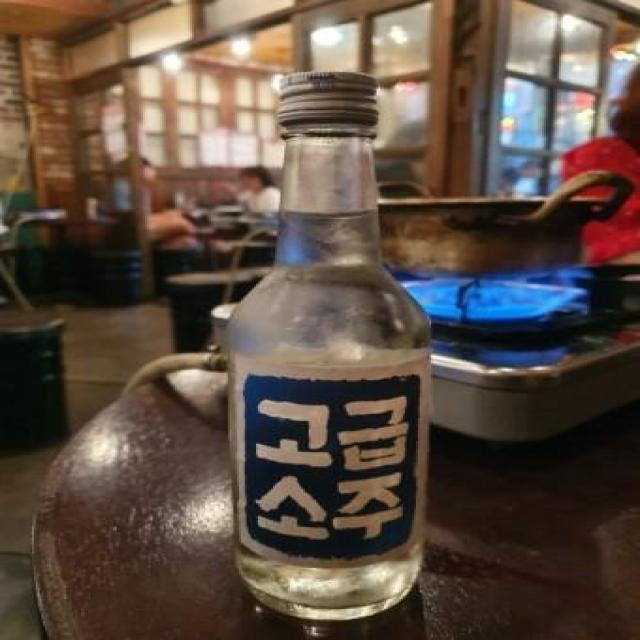soju-bottle: (228, 69, 433, 622)
